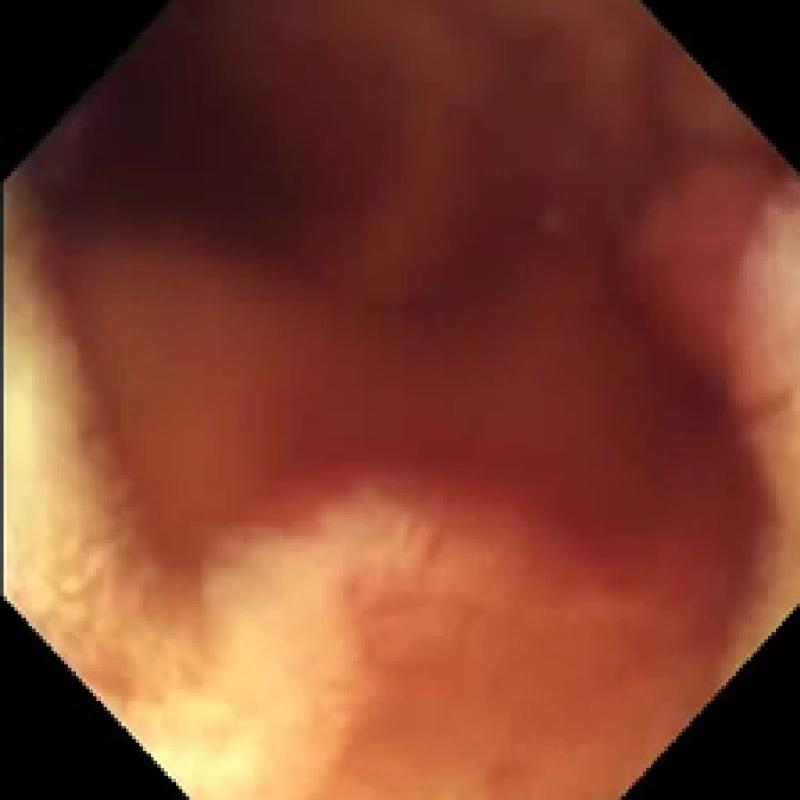bleeding: (32, 0, 772, 629)
